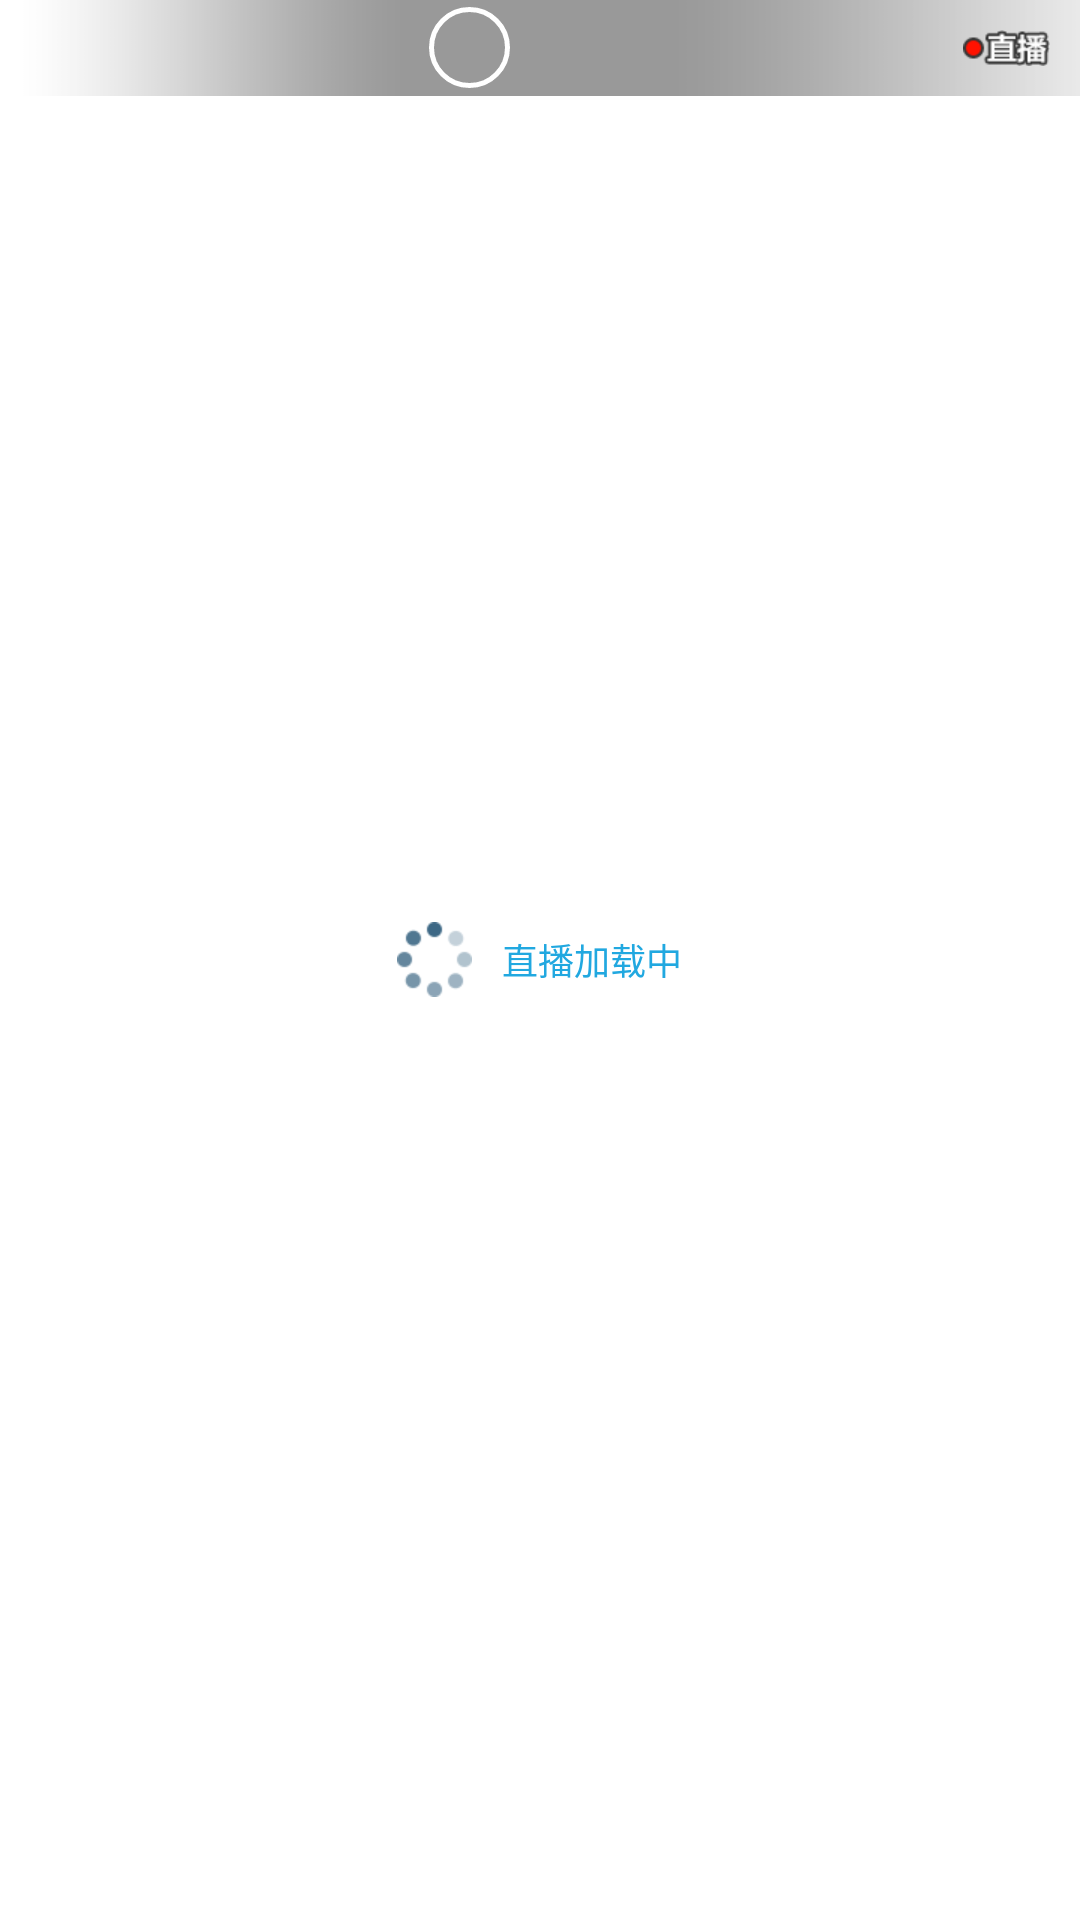

Point at icon controls on the screen. Image size 1080 × 1920, points as [x,y].
video loading: [434,959]
